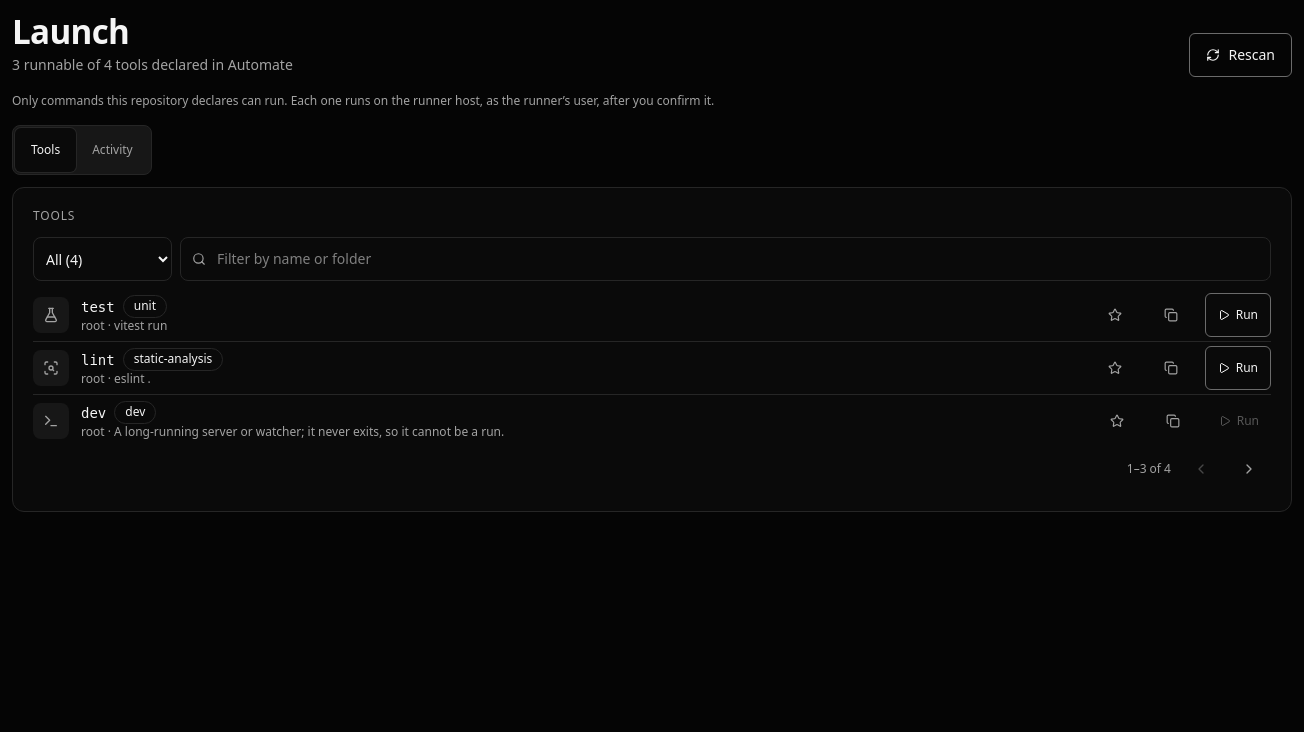
the runner, as a daily tool › on a narrow screen, trades the groups panel for a select and the columns for tabs
Select "Quality (1)" in the dropdown with test id "runner-group-select" at (102, 259), box [33,237,172,281]
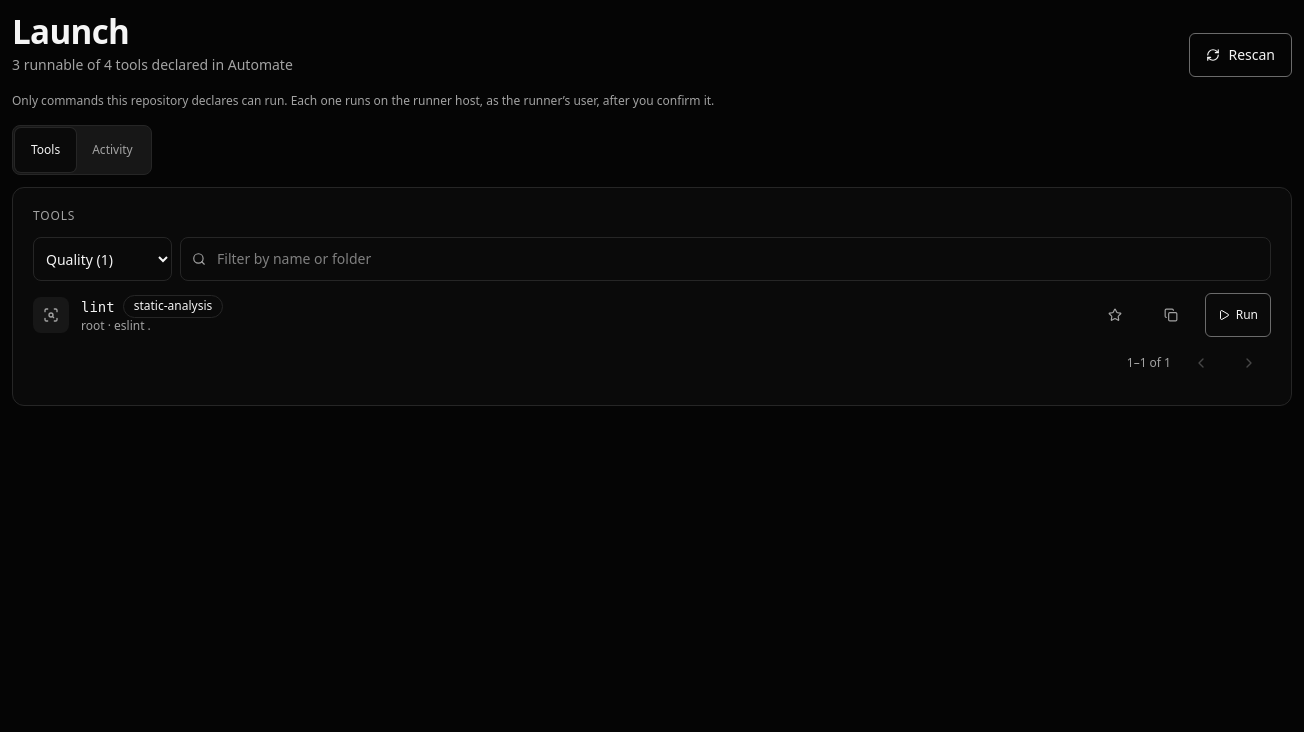
Click the button "Activity" at (112, 150), box [76,128,149,172]
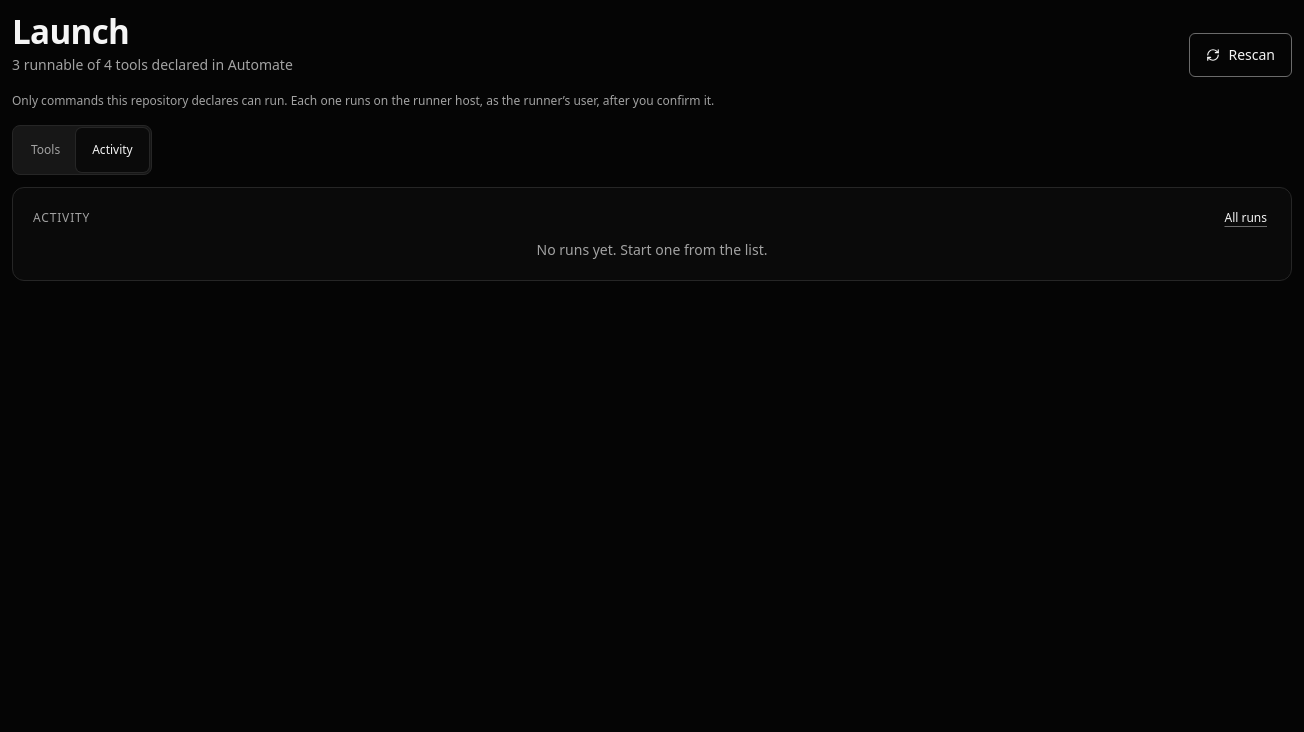
Check: the element with test id "runner-activity" is shown, box [12,187,1292,281]
Check: the element with test id "runner-tools" is gone
